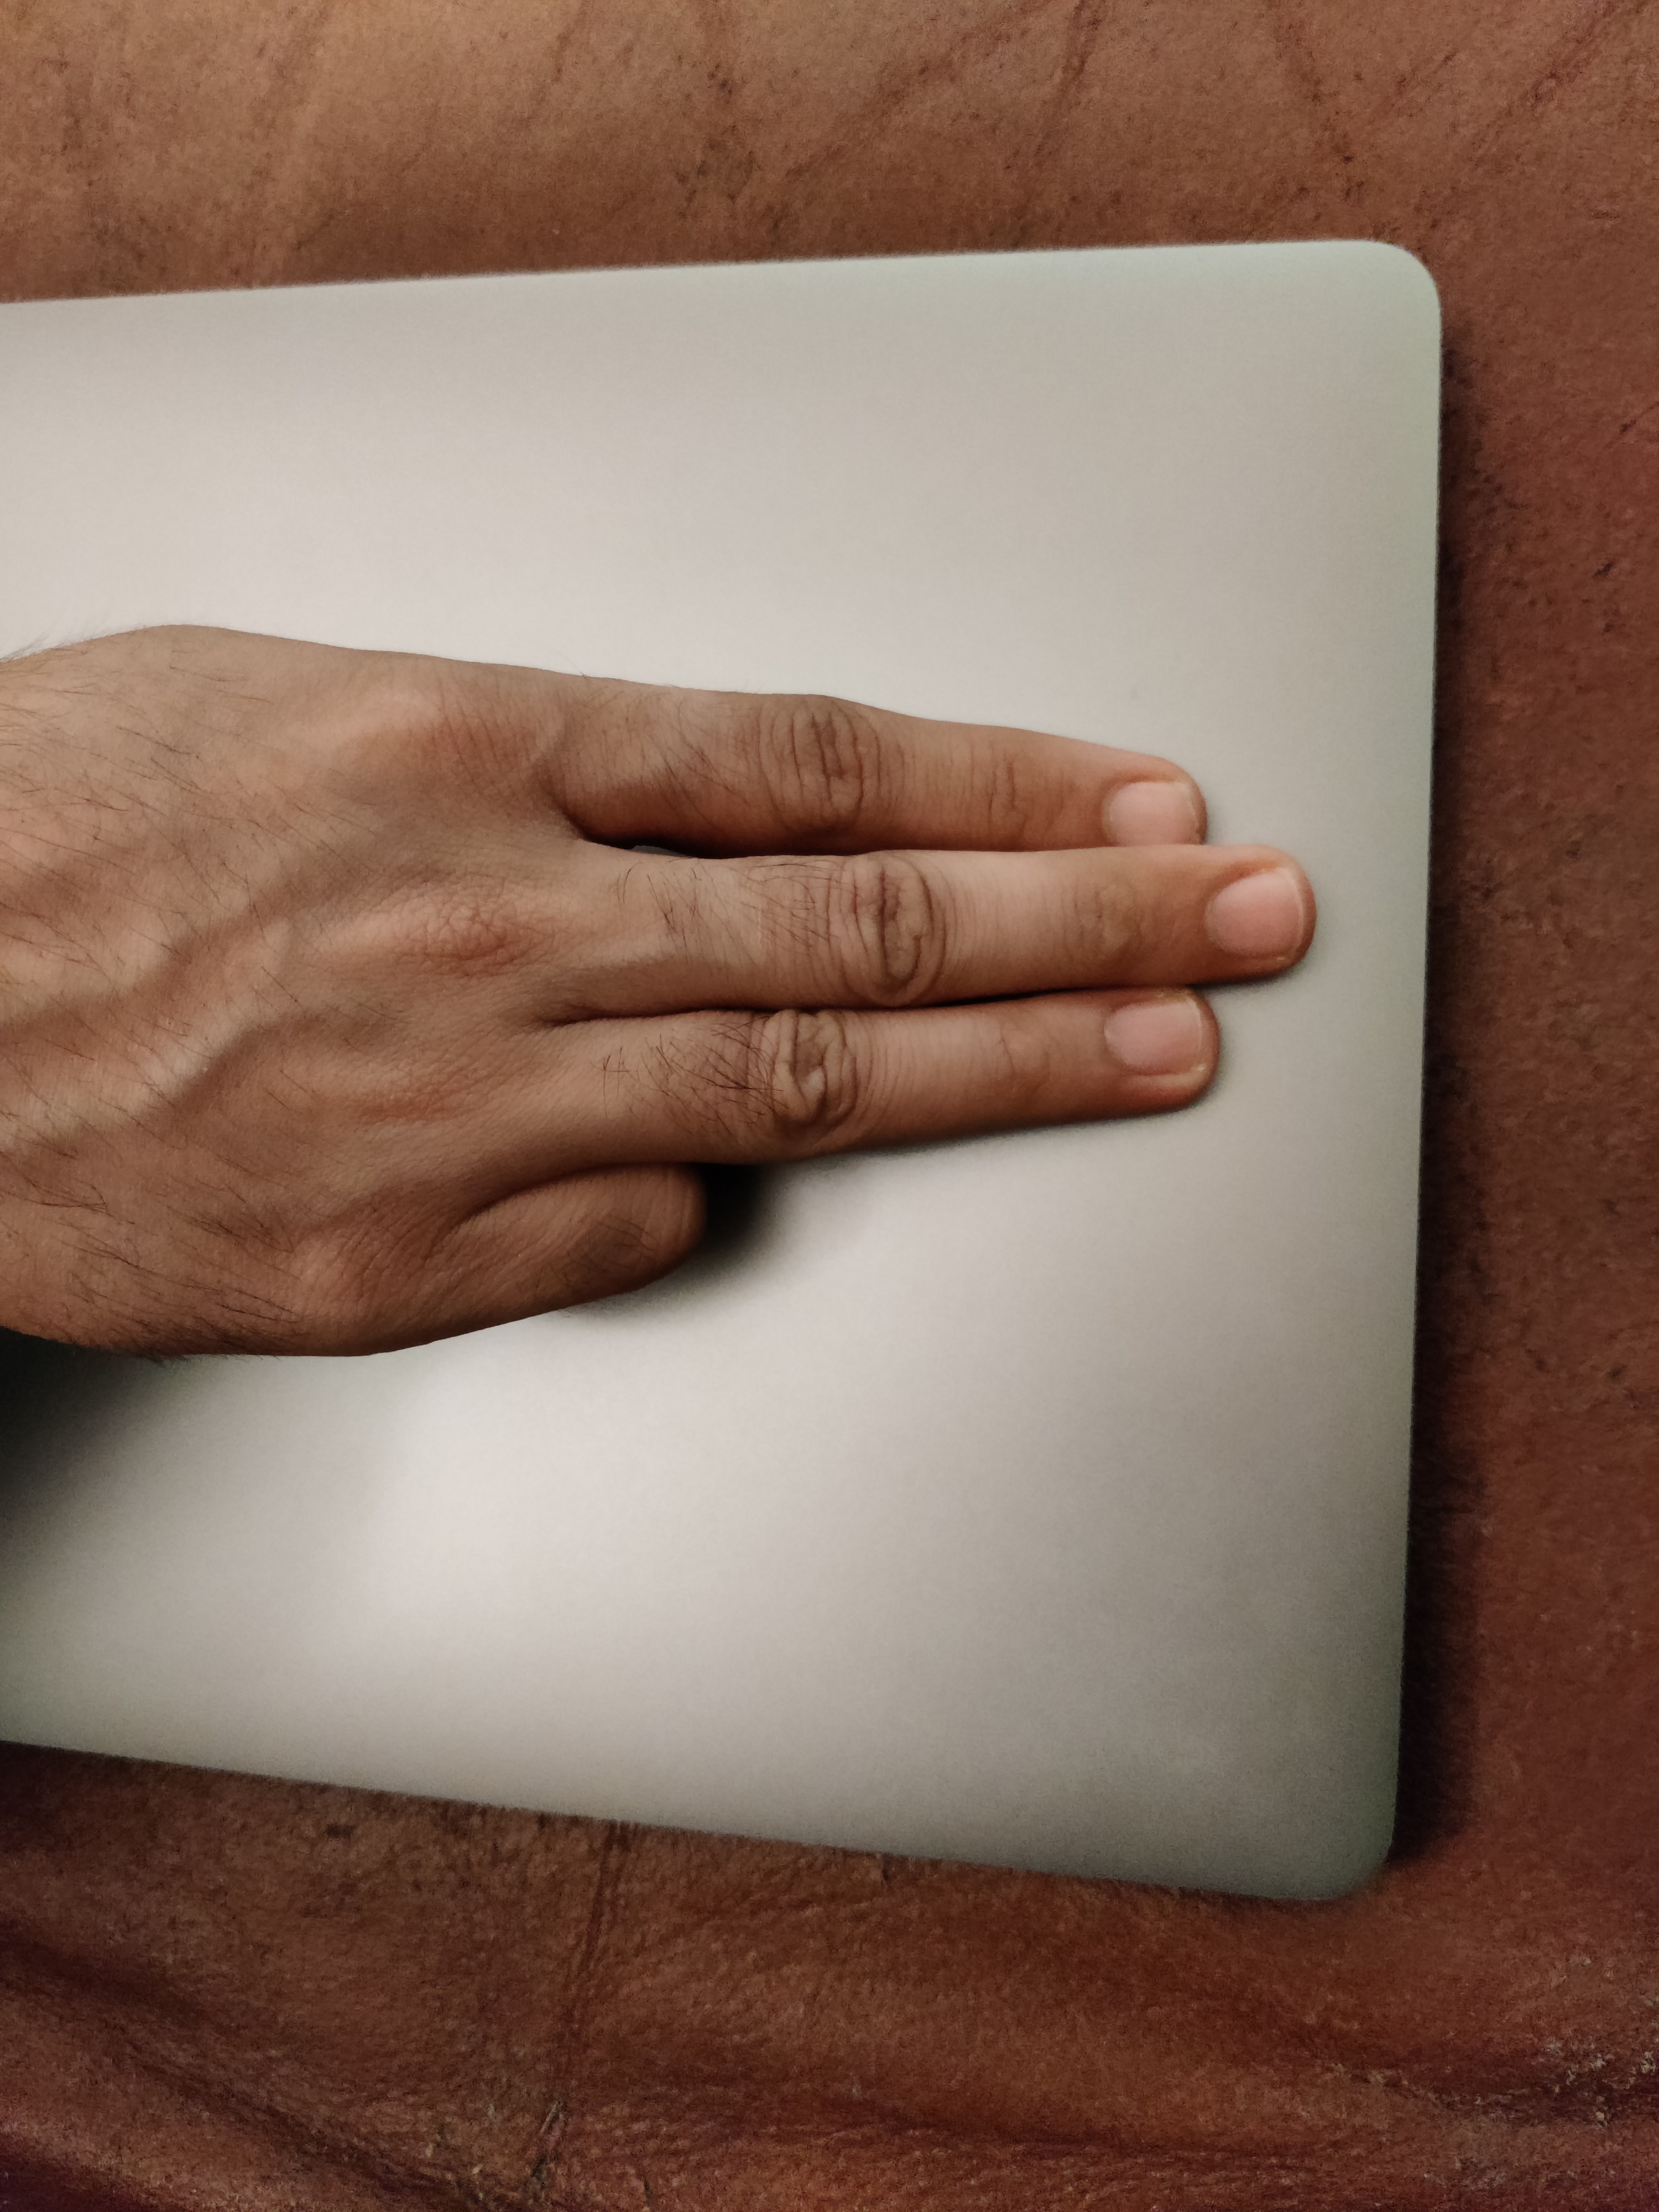left: (9, 265, 1466, 1534)
